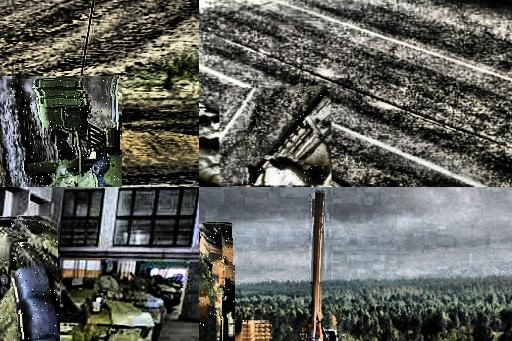tanks: (28, 81, 122, 188), (244, 89, 333, 187), (1, 220, 60, 341), (61, 278, 156, 341), (200, 225, 235, 341), (49, 274, 62, 288)
